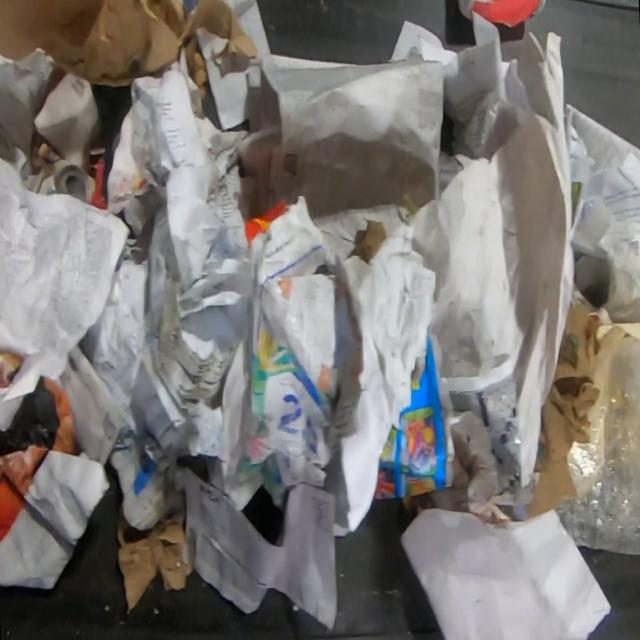cardboard: (524, 301, 600, 519), (116, 505, 194, 614)
metal: (46, 157, 96, 204)
soft_plastic: (556, 337, 640, 556)
